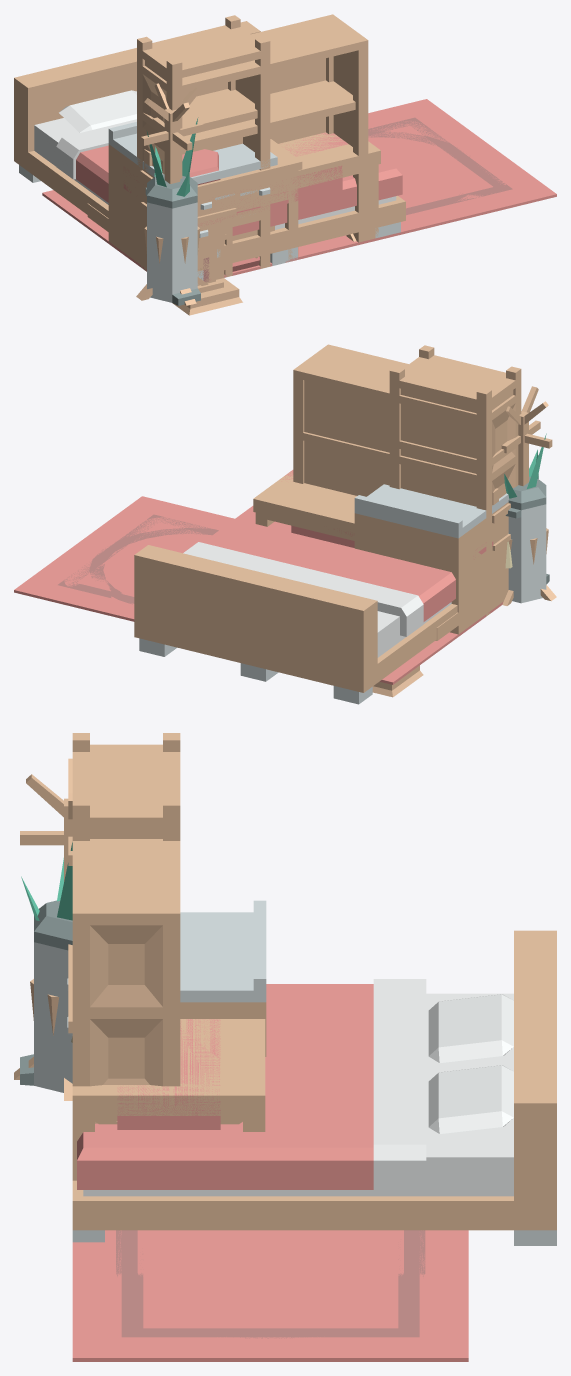
File: furniture.glb
3 renders of one model, top to bottom at view 1: azimuth 30°, elevation 25°; view 2: azimuth 150°, elevation 25°; view 3: azimuth 270°, elevation 25°, orthographic. The views are drawn at different scales.
Parts seen in each view (by area): view 1: bookcaseClosedWide(Clone), rugRectangle(Clone), bedDouble(Clone), bookcaseClosed(Clone), cover (×2), trashcan(Clone), bookcaseOpen(Clone), kitchenCabinet(Clone), rugRounded(Clone), coatRackStanding(Clone), sideTable(Clone), tableCross(Clone) (+15 smaller); view 2: bedDouble(Clone), bookcaseClosedWide(Clone), bookcaseClosed(Clone), cover (×2), kitchenCabinet(Clone), rugRectangle(Clone), bedSingle(Clone), rugRounded(Clone), trashcan(Clone), tableCross(Clone), bookcaseOpen(Clone), coatRackStanding(Clone) (+6 smaller); view 3: cover (×2), bedDouble(Clone), rugRectangle(Clone), bookcaseClosedWide(Clone), rugRounded(Clone), tableCross(Clone), kitchenCabinet(Clone), tableCrossCloth(Clone), bookcaseClosed(Clone), trashcan(Clone), bookcaseOpen(Clone), pillowLeft (+5 smaller).
Boxes of the visible parts, x1,y1,x2,y2 form: bookcaseClosedWide(Clone): (137, 14, 368, 265); rugRectangle(Clone): (42, 99, 556, 280); bedDouble(Clone): (14, 21, 405, 284); bookcaseClosed(Clone): (137, 25, 270, 268); cover (×2): (56, 119, 402, 235); trashcan(Clone): (145, 174, 200, 305); bookcaseOpen(Clone): (137, 15, 270, 267); kitchenCabinet(Clone): (108, 122, 276, 262); rugRounded(Clone): (285, 119, 509, 262); coatRackStanding(Clone): (136, 83, 208, 305); sideTable(Clone): (140, 139, 302, 267); tableCross(Clone): (110, 132, 380, 241); bedDouble(Clone): (134, 545, 457, 704); bookcaseClosedWide(Clone): (293, 344, 521, 615); bookcaseClosed(Clone): (389, 355, 521, 615); cover (×2): (183, 506, 455, 636); kitchenCabinet(Clone): (354, 484, 509, 634); rugRectangle(Clone): (14, 496, 503, 684); bedSingle(Clone): (134, 545, 278, 681); rugRounded(Clone): (61, 516, 233, 613); trashcan(Clone): (505, 476, 549, 603); tableCross(Clone): (253, 472, 508, 579); bookcaseOpen(Clone): (389, 345, 521, 615); coatRackStanding(Clone): (501, 386, 556, 605); cover (×2): (77, 979, 426, 1191); bedDouble(Clone): (72, 930, 556, 1245); rugRectangle(Clone): (72, 1230, 468, 1361); bookcaseClosedWide(Clone): (72, 839, 180, 1123); rugRounded(Clone): (82, 1230, 460, 1357); tableCross(Clone): (72, 1019, 265, 1124); kitchenCabinet(Clone): (180, 900, 266, 1056); tableCrossCloth(Clone): (72, 1019, 265, 1129); bookcaseClosed(Clone): (72, 744, 180, 840); trashcan(Clone): (20, 900, 72, 1092); bookcaseOpen(Clone): (72, 733, 180, 825); pillowLeft: (428, 994, 513, 1062).
Size of the model in its own units: 1.71 by 1.15 by 1.26.
